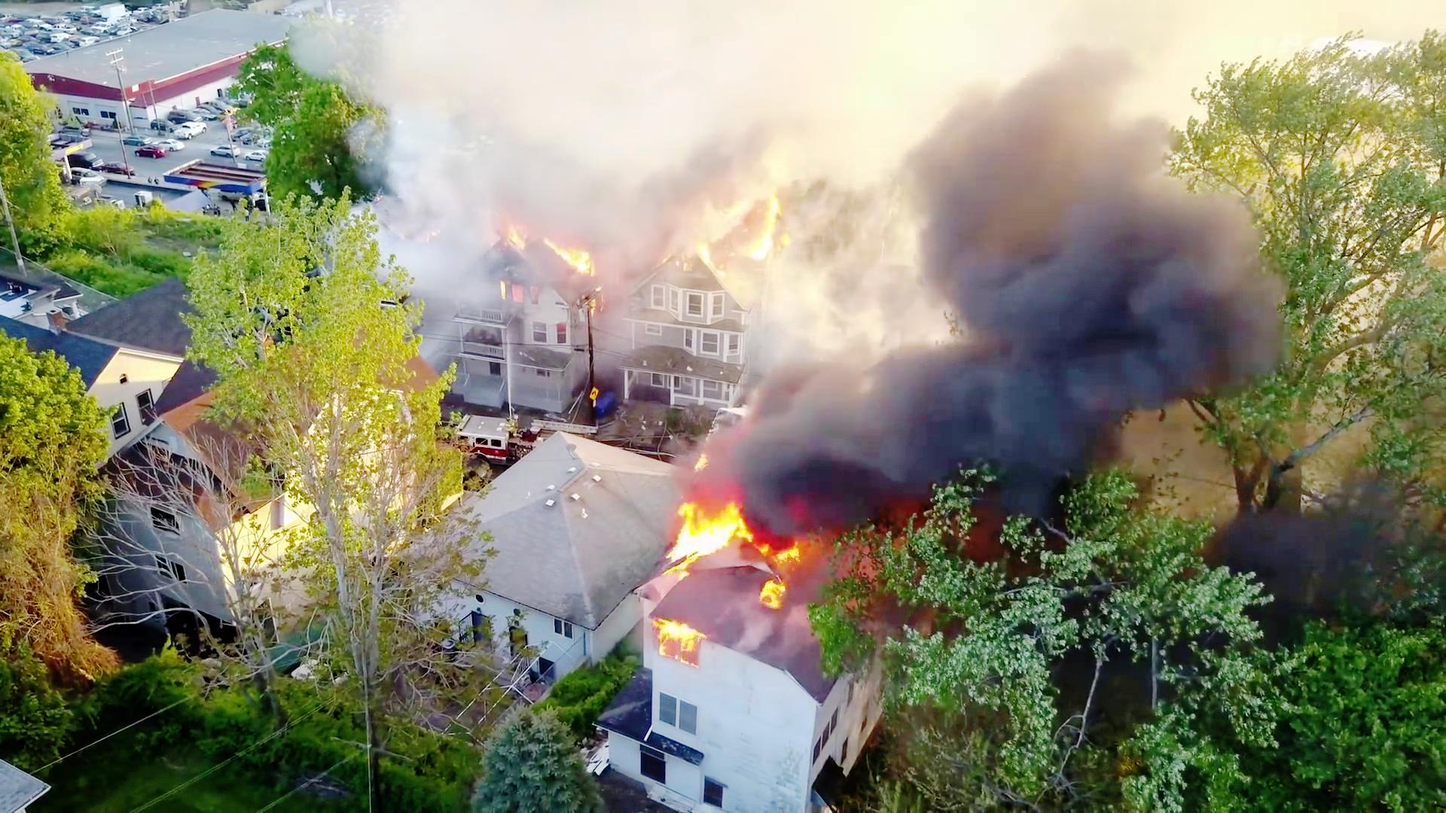fire: (667, 488, 767, 575)
smoke: (919, 47, 1281, 390), (765, 318, 1088, 497), (784, 185, 924, 300)
